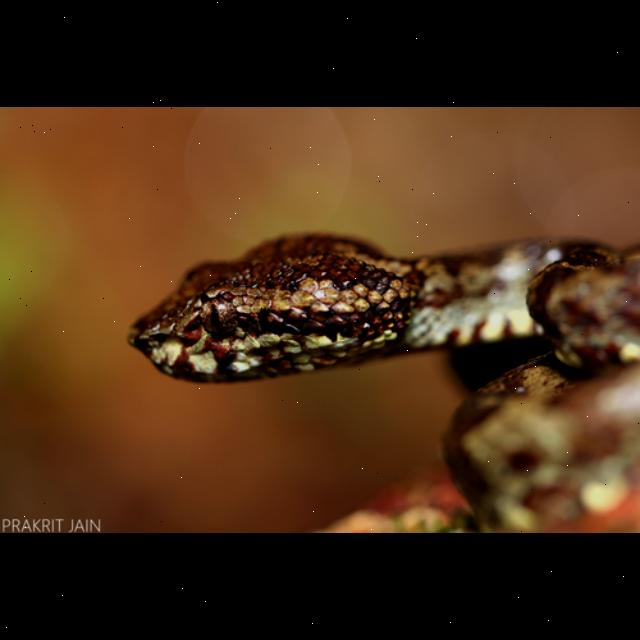snake: (120, 229, 640, 403)
